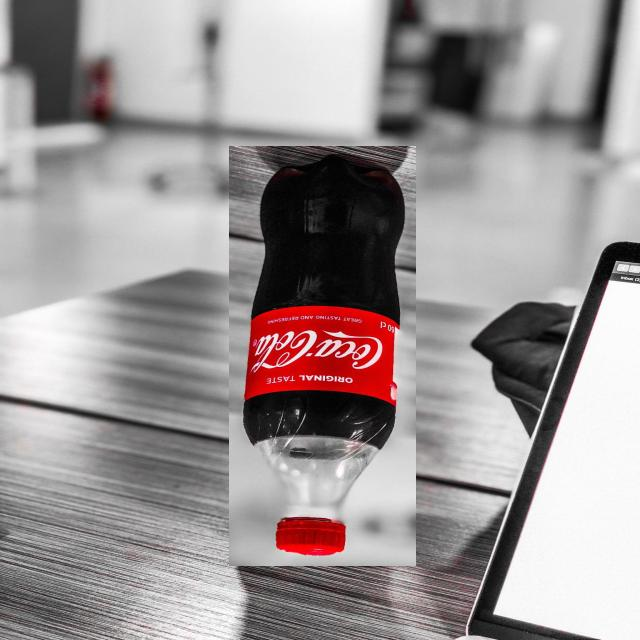coca-cola: (229, 146, 416, 566)
